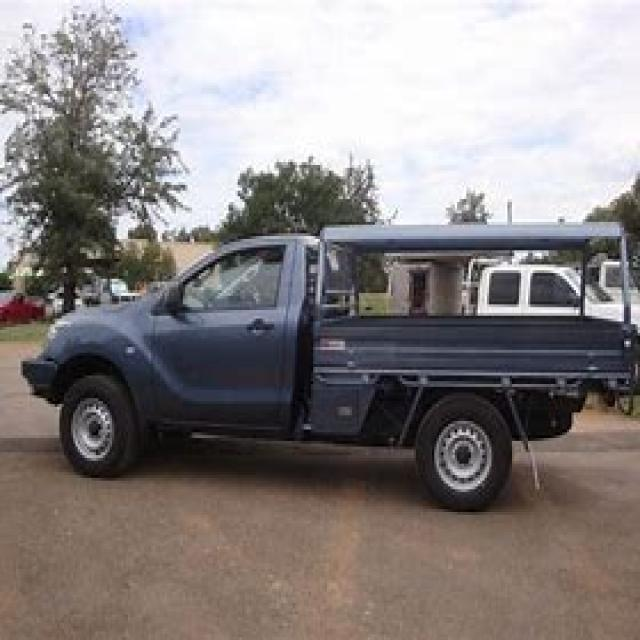light_vehicle: (9, 205, 638, 518)
